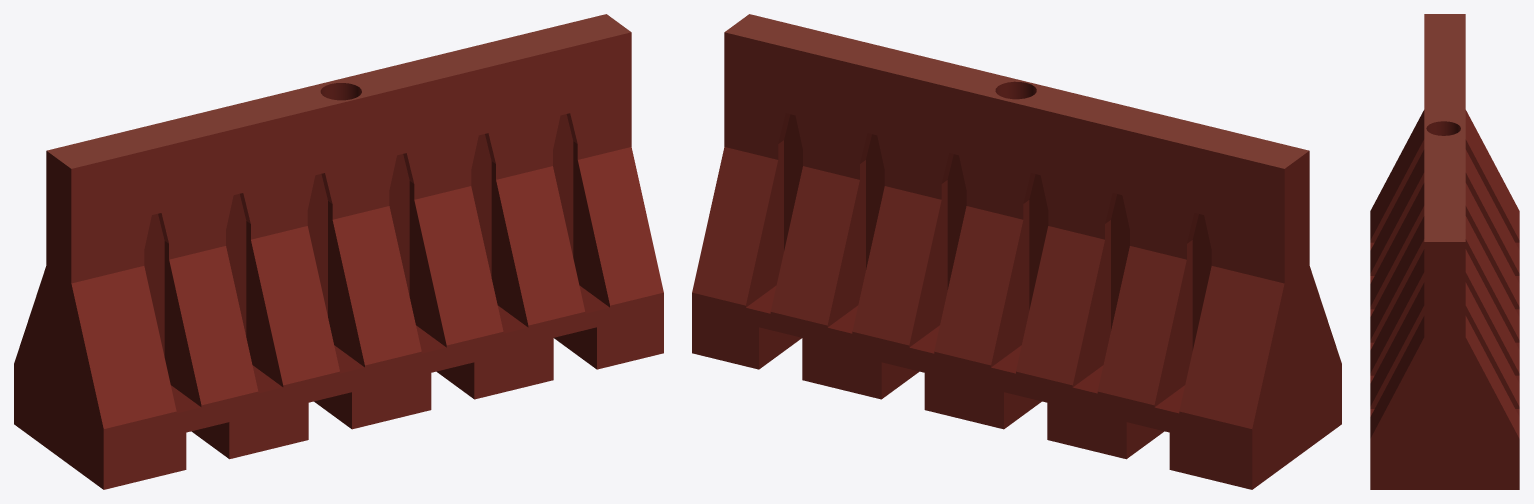
Rendered from SpartiTrafficoRosso.fbx.
3 renders of one model, left to right at view 1: azimuth 30°, elevation 25°; view 2: azimuth 150°, elevation 25°; view 3: azimuth 270°, elevation 25°, orthographic. The views are drawn at different scales.
Parts seen in each view (by area): view 1: pCube2; view 2: pCube2; view 3: pCube2.
Boxes of the visible parts, x1=… form: pCube2: x1=14, y1=14, x2=663, y2=489; pCube2: x1=692, y1=14, x2=1341, y2=489; pCube2: x1=1370, y1=14, x2=1519, y2=489.
Size of the model in its own units: 365 by 185 by 101.
